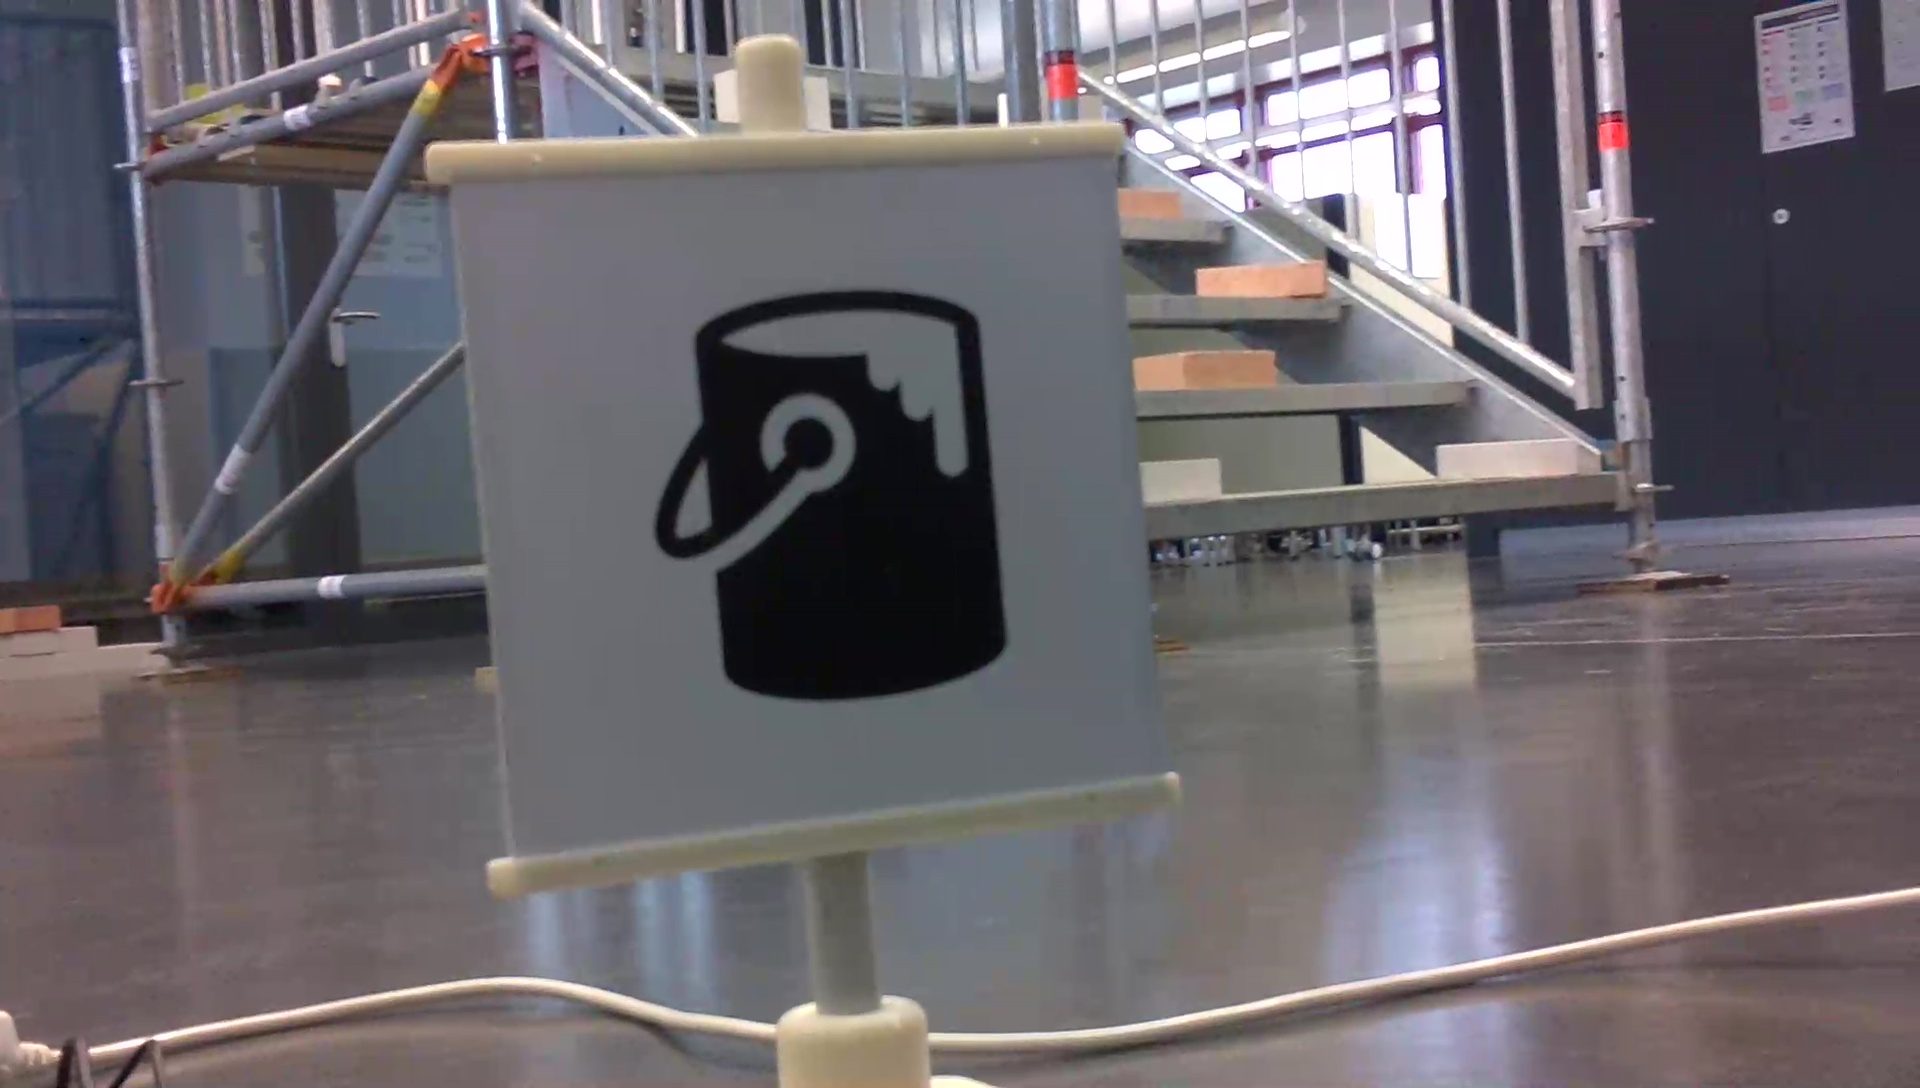brick: (1440, 437, 1572, 479), (1133, 349, 1273, 382), (1195, 262, 1327, 295), (1142, 460, 1215, 500), (1116, 189, 1178, 218)
bucket: (637, 282, 1019, 711)
edge: (1139, 475, 1618, 535), (1127, 377, 1477, 413), (1127, 293, 1353, 320), (1124, 218, 1242, 243)
